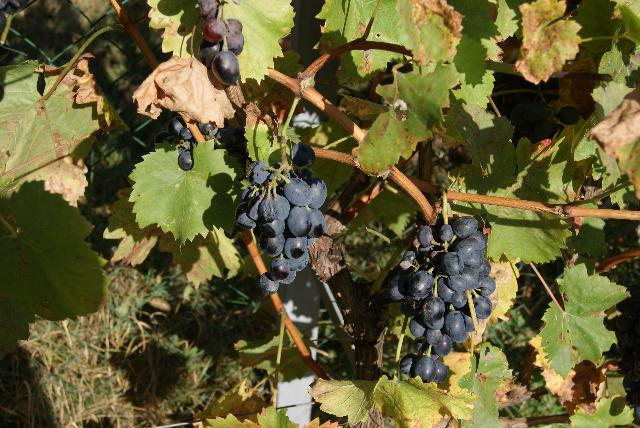grapes: (388, 216, 496, 384), (235, 142, 328, 295)
